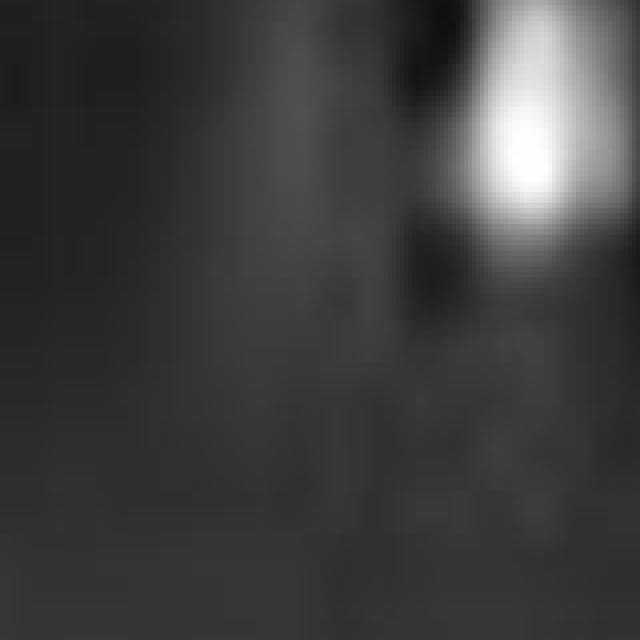person: (433, 1, 640, 300)
